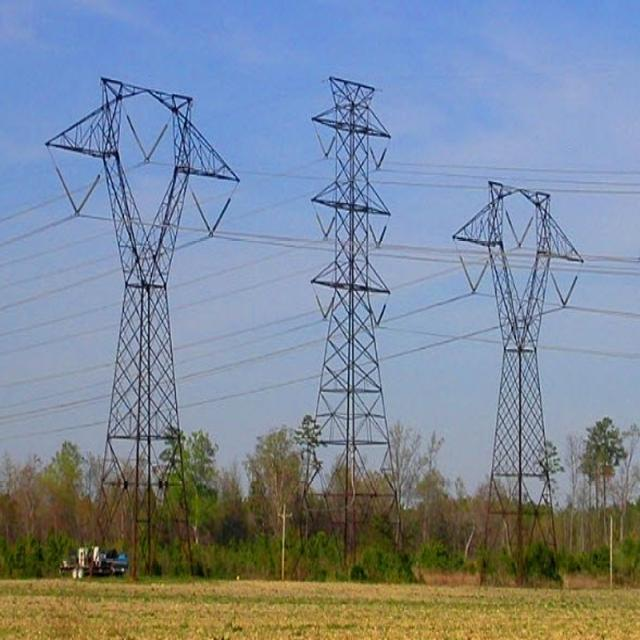non-critical vegetation: (33, 56, 220, 570), (308, 75, 407, 573), (463, 182, 572, 575)
